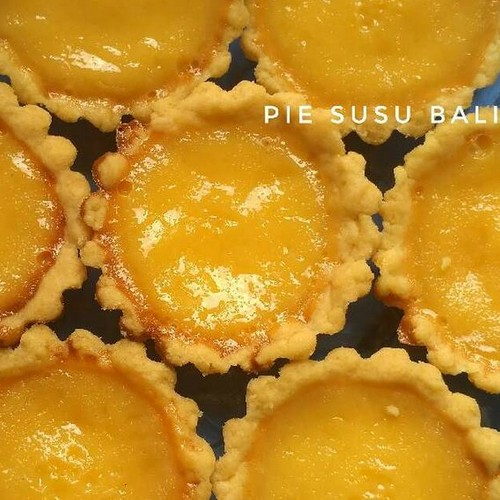pie susu: (98, 85, 365, 370), (225, 350, 500, 500), (243, 13, 500, 161), (385, 103, 500, 401), (12, 338, 198, 500), (2, 9, 234, 137), (1, 93, 110, 360)
